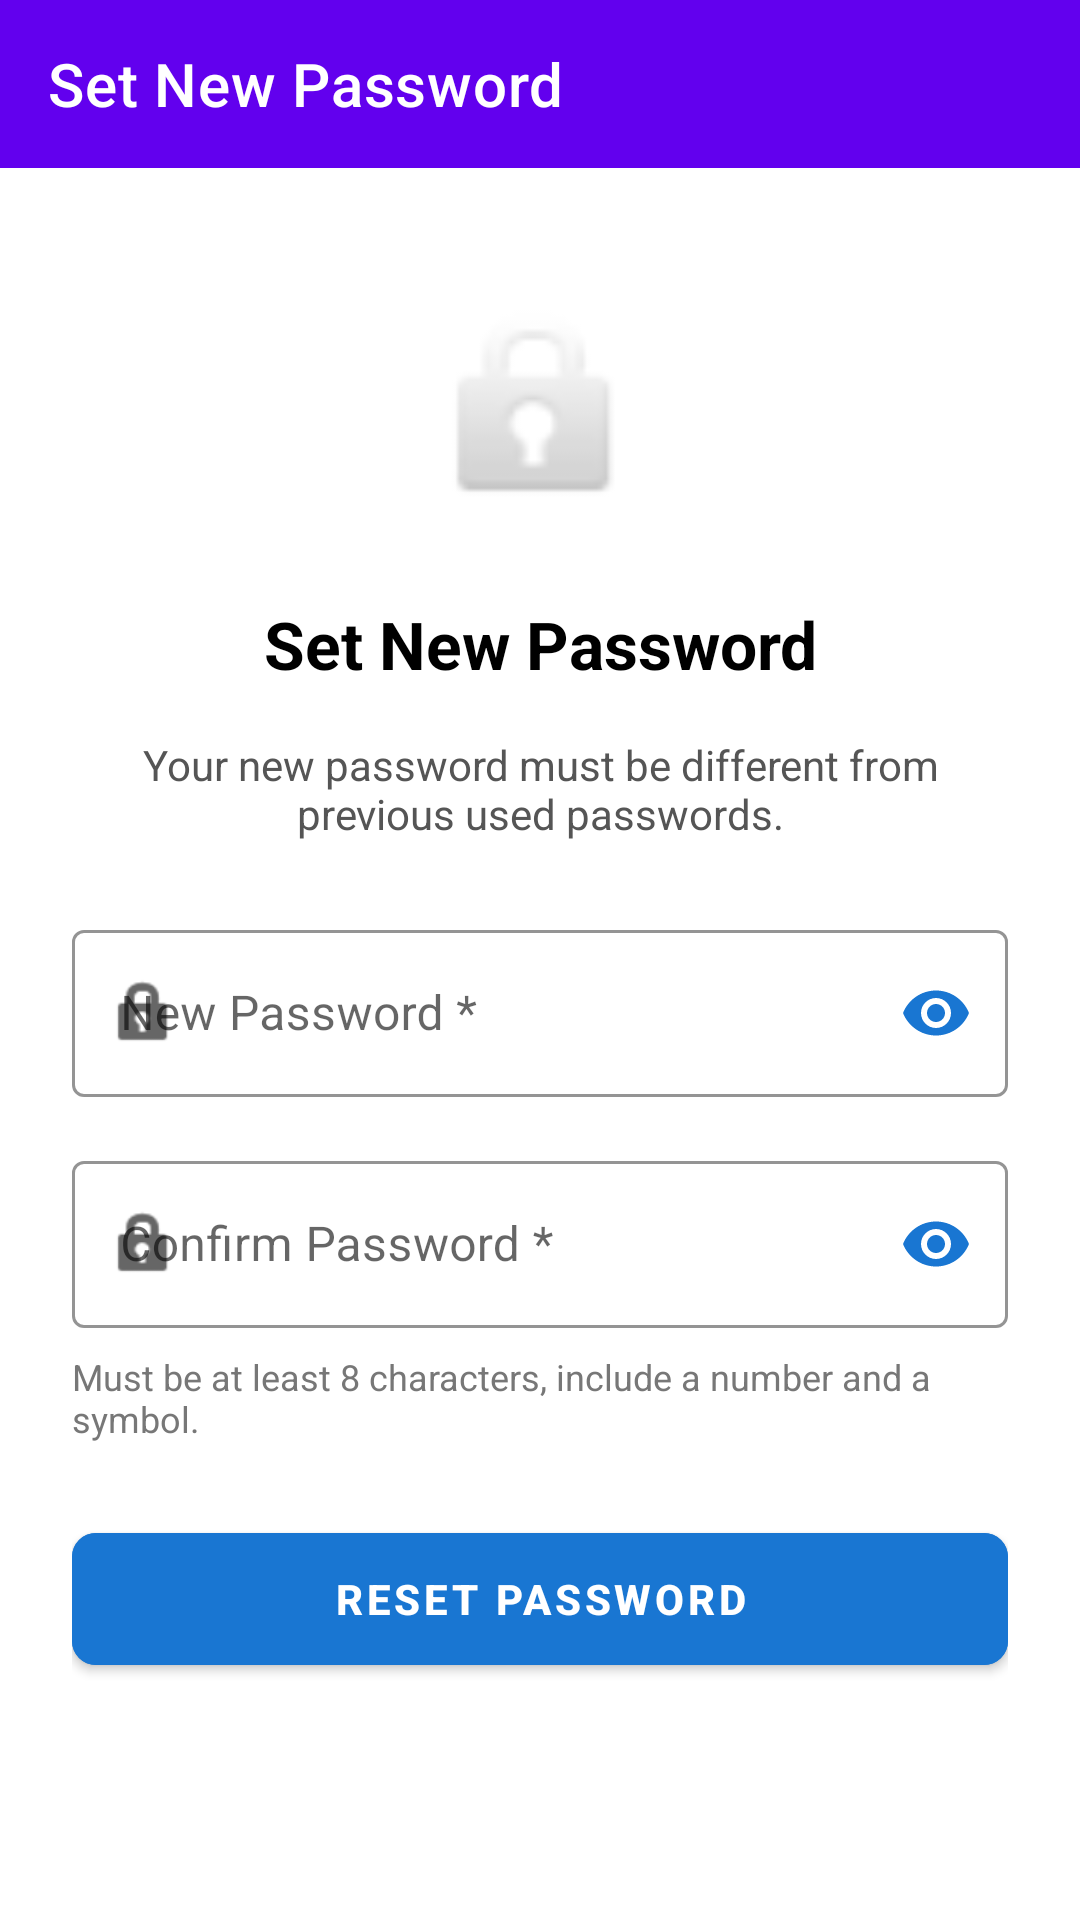

Screen size 1080w x 1920h. Icon name, then its center in pixels as point (x, y):
lock idle: point (533, 440)
